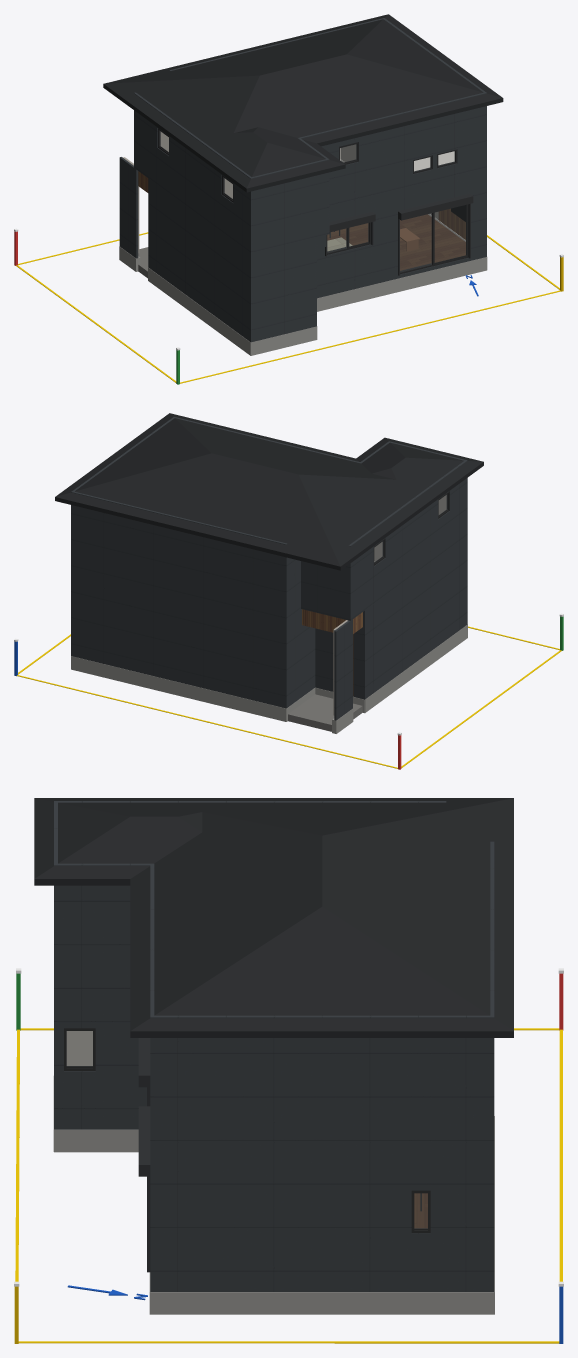
Rendered from B_20_flat.glb.
3 views of the same model, one above another, from view 1: azimuth 30°, elevation 25°; view 2: azimuth 150°, elevation 25°; view 3: azimuth 270°, elevation 25° (orthographic). The views are drawn at different scales.
Parts seen in each view (by area): view 1: siding, roof, found, glass, floor, shutter, lotline, frame, wall, accent; view 2: siding, roof, found, lotline, tile, woodceil, wall; view 3: siding, roof, found, lotline, shutter, glass, wall, frame.
Boxes of the visible parts, left/top/right/bottom form: siding: left=119, top=18, right=486, bottom=342; roof: left=103, top=14, right=503, bottom=192; found: left=119, top=246, right=487, bottom=355; glass: left=160, top=132, right=465, bottom=271; floor: left=327, top=214, right=465, bottom=270; shutter: left=325, top=193, right=473, bottom=275; lotline: left=16, top=232, right=560, bottom=383; frame: left=158, top=128, right=468, bottom=274; wall: left=123, top=131, right=438, bottom=253; accent: left=438, top=208, right=465, bottom=239; siding: left=71, top=417, right=467, bottom=720; roof: left=55, top=413, right=483, bottom=570; found: left=71, top=624, right=467, bottom=733; lotline: left=17, top=626, right=561, bottom=768; tile: left=288, top=694, right=362, bottom=731; woodceil: left=302, top=609, right=362, bottom=633; wall: left=333, top=495, right=446, bottom=715; siding: left=54, top=801, right=494, bottom=1291; roof: left=34, top=798, right=513, bottom=1037; found: left=53, top=1076, right=494, bottom=1314; lotline: left=15, top=1028, right=562, bottom=1343; shutter: left=138, top=1038, right=150, bottom=1272; glass: left=67, top=1031, right=427, bottom=1227; wall: left=66, top=1031, right=92, bottom=1065; frame: left=64, top=1028, right=430, bottom=1233.
Size of the model in its own units: 14.14 by 7.01 by 10.42.
31 materials, 6 textured.
